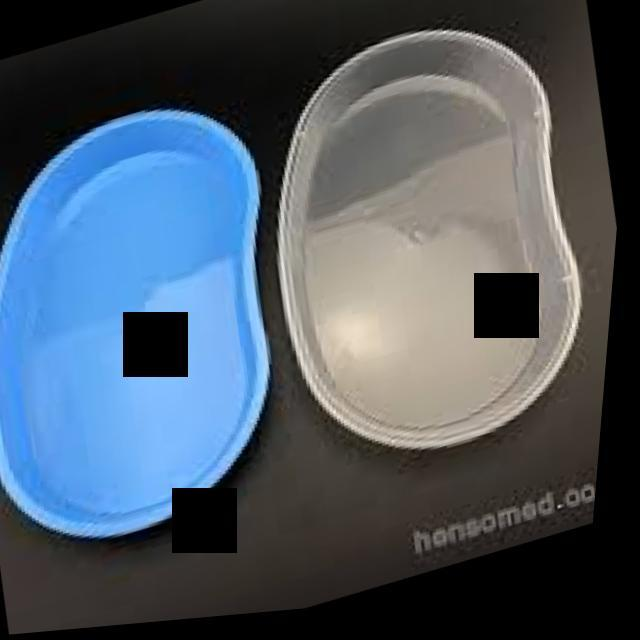Kidney Tray: (216, 0, 638, 511)
